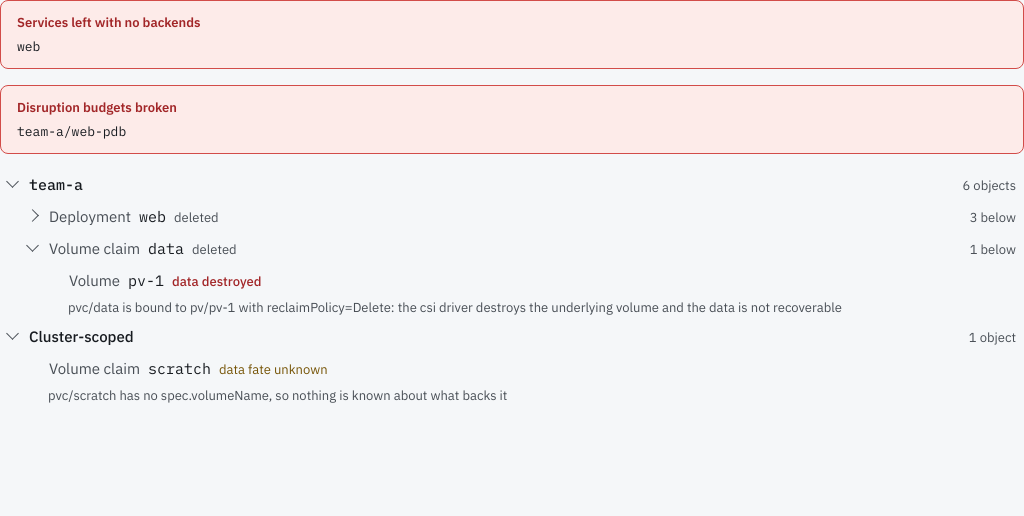
Test: ImpactTree › nests pods under their deployment and marks destroyed data
The width and height of the screenshot is (1024, 516).
Click the element with class "itree-row" showing "Deployment web deleted 3 below". click: x=90, y=216
box: top-left (26, 207), bottom-right (1016, 226)
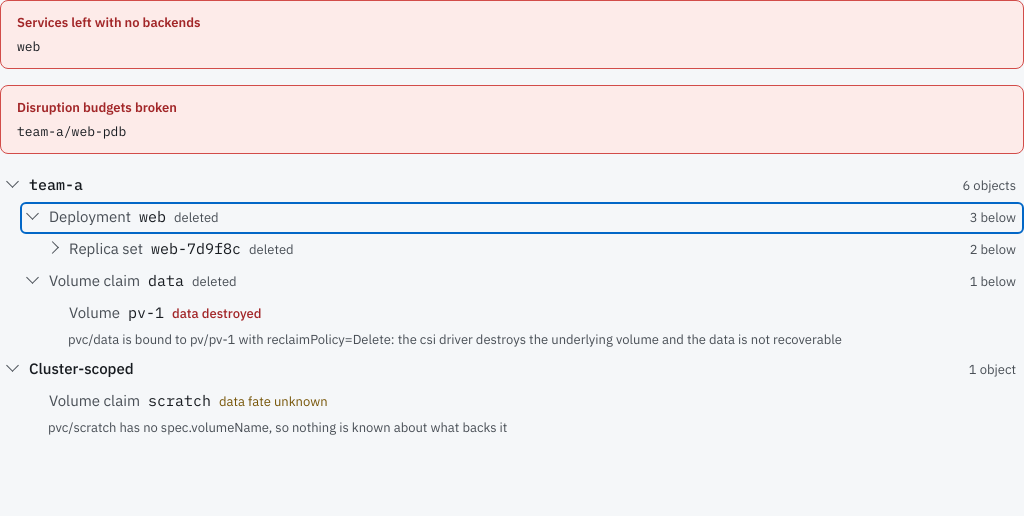
Click the element with class "itree-row" that starts with "Replica set". click: x=106, y=248
box: top-left (46, 239), bottom-right (1016, 258)
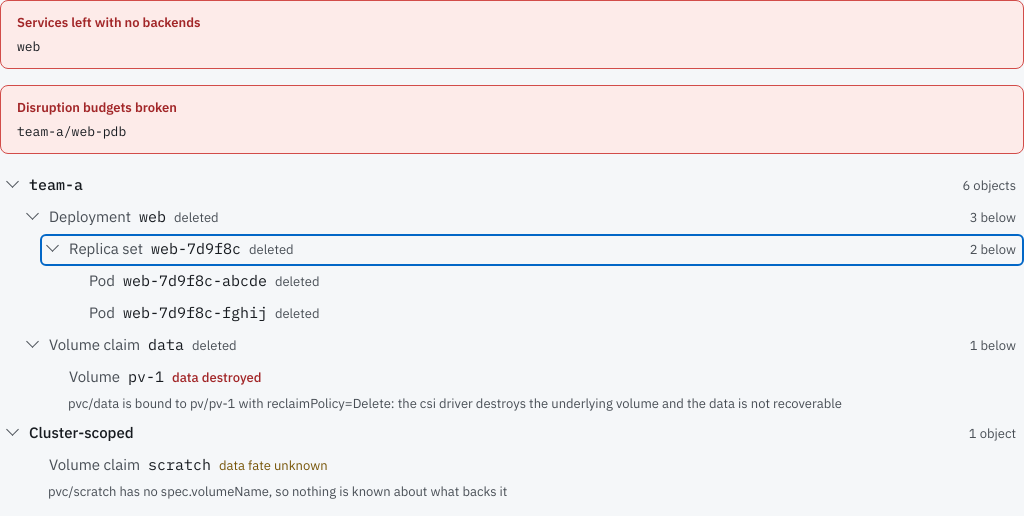
Expected: the text "3 below" is shown, top-left (970, 208), bottom-right (1016, 228)
Expected: the text "2 below" is shown, top-left (970, 240), bottom-right (1016, 260)
Expected: the list item "Pod web-7d9f8c-fghij deleted" is shown, top-left (89, 303), bottom-right (320, 322)
